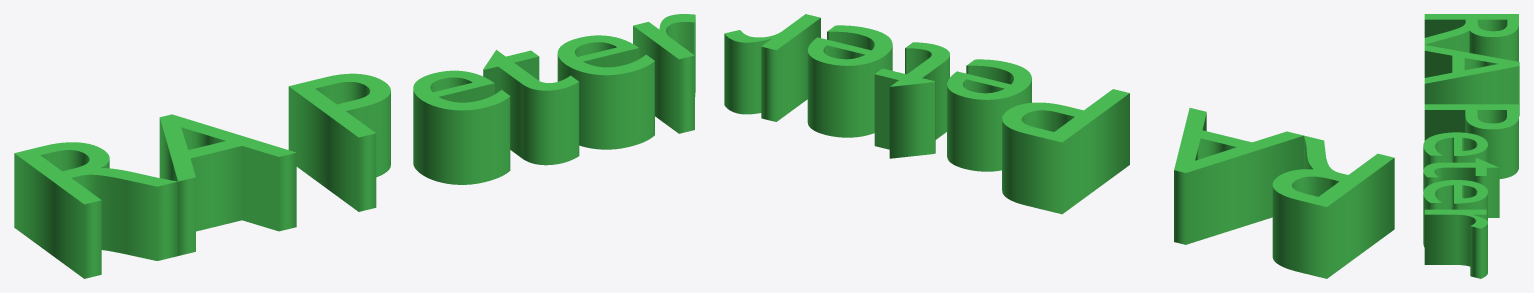
Rendered from RA Peter.gltf.
The picture shows the model from 3 angles, left to right: view 1: azimuth 30°, elevation 25°; view 2: azimuth 150°, elevation 25°; view 3: azimuth 270°, elevation 25°; orthographic projection. The views are drawn at different scales.
Parts seen in each view (by area): view 1: Text; view 2: Text; view 3: Text.
Part boxes in pixels (x1=…): Text: x1=14, y1=14, x2=695, y2=278; Text: x1=724, y1=14, x2=1394, y2=278; Text: x1=1423, y1=14, x2=1519, y2=278.
Size of the model in its own units: 3.67 by 0.4 by 0.695.
